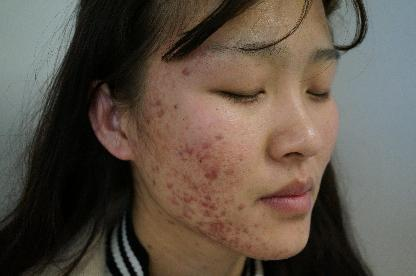Nodules: (200, 157, 227, 190), (197, 193, 218, 211), (179, 62, 195, 79), (210, 130, 230, 142), (154, 106, 168, 123), (182, 190, 195, 206), (150, 95, 165, 106), (164, 178, 176, 190)
Papules: (181, 206, 197, 220)
